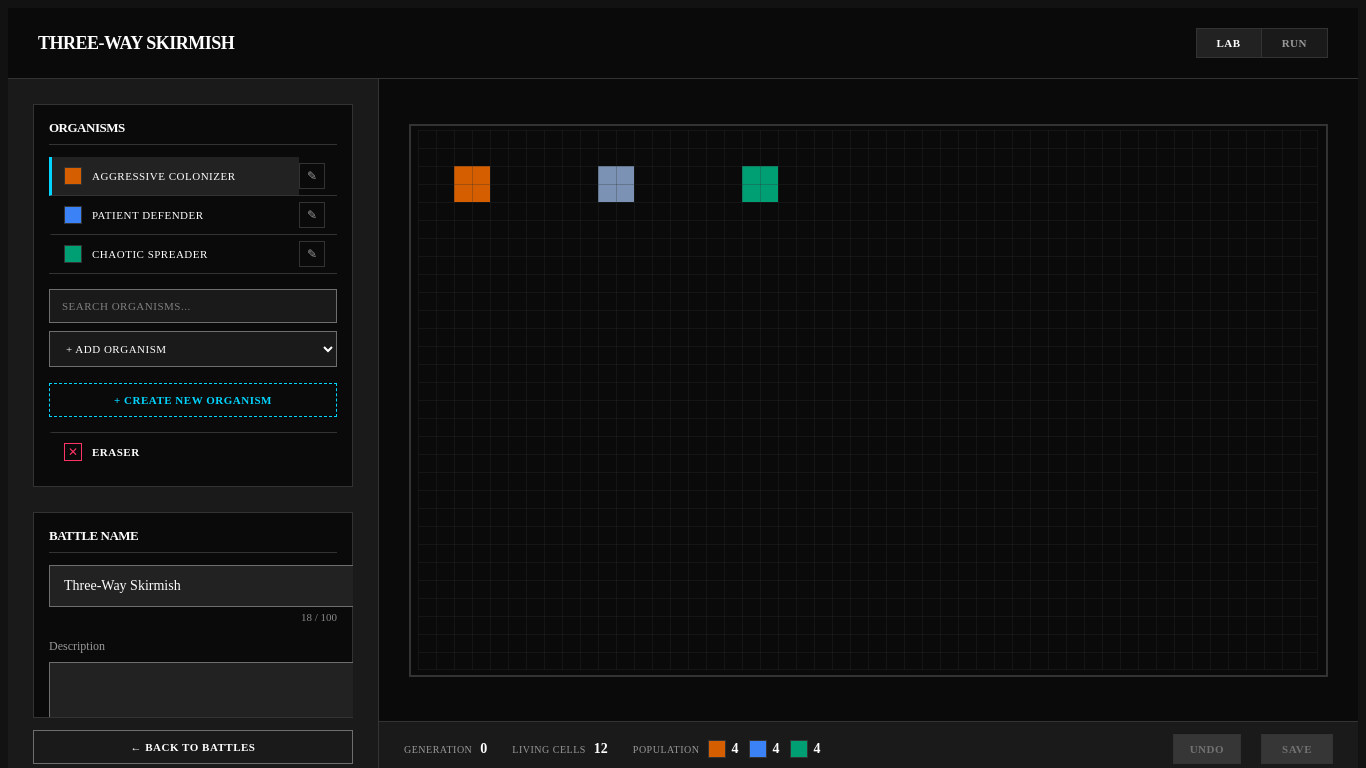
Test: BattlePage — create organism from battle (Story 4.25) › a create after a pencil press opens on fresh snapshots — "Used in 0 Battles", not the pencil's (FD4, AC7)
Expected: the heading "Three-Way Skirmish" is shown, [38, 32, 234, 54]
Click the button named "Edit Aggressive Colonizer": (312, 176) [299, 163, 325, 189]
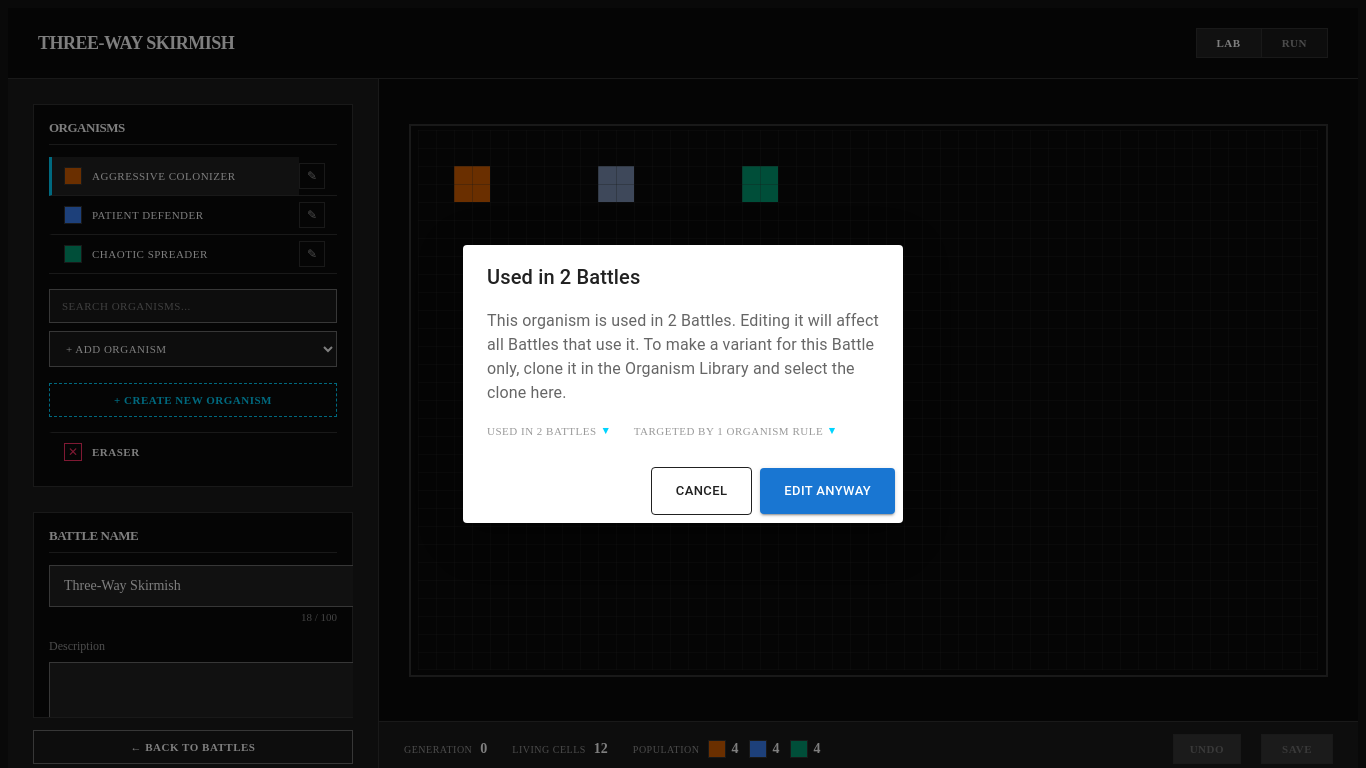
Click the button "Edit Anyway": (828, 491) [760, 468, 895, 514]
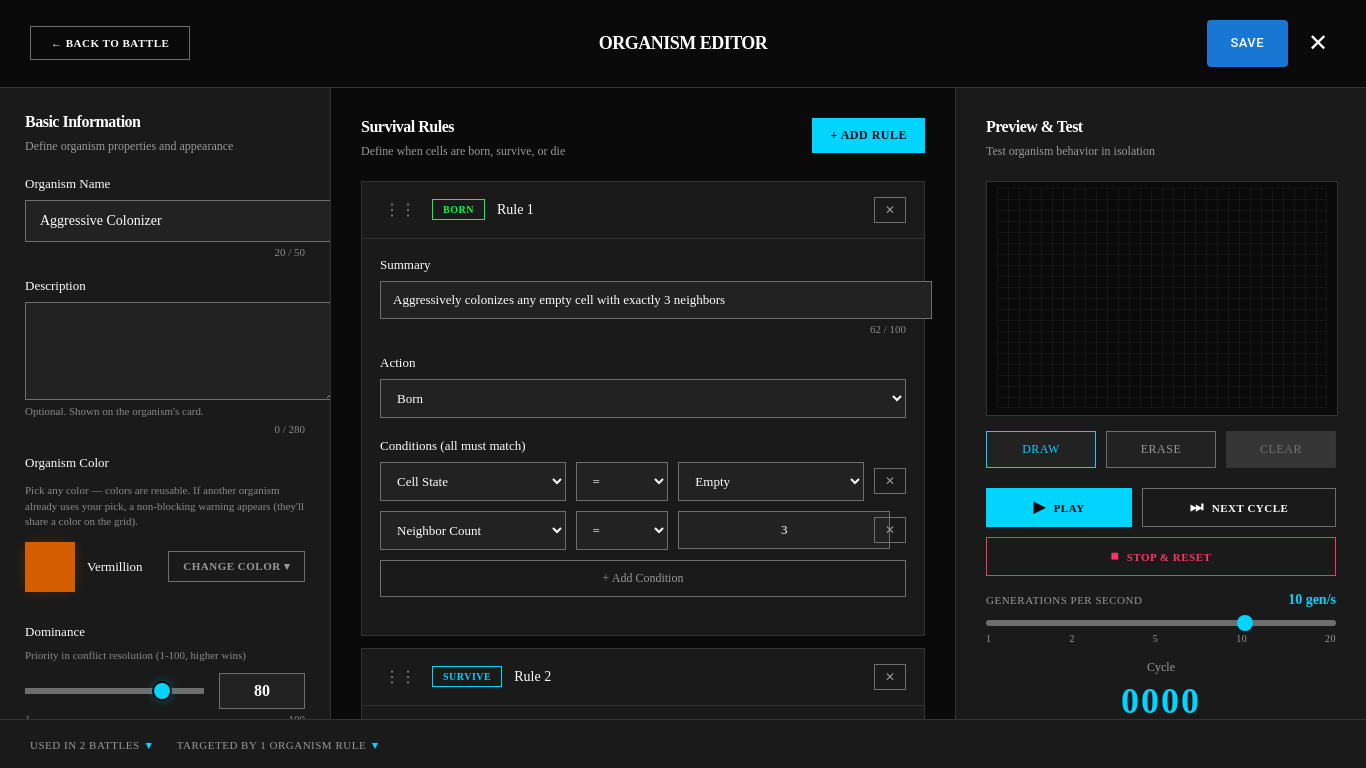
Click the button "← Back to Battle": (110, 43) [30, 26, 190, 60]
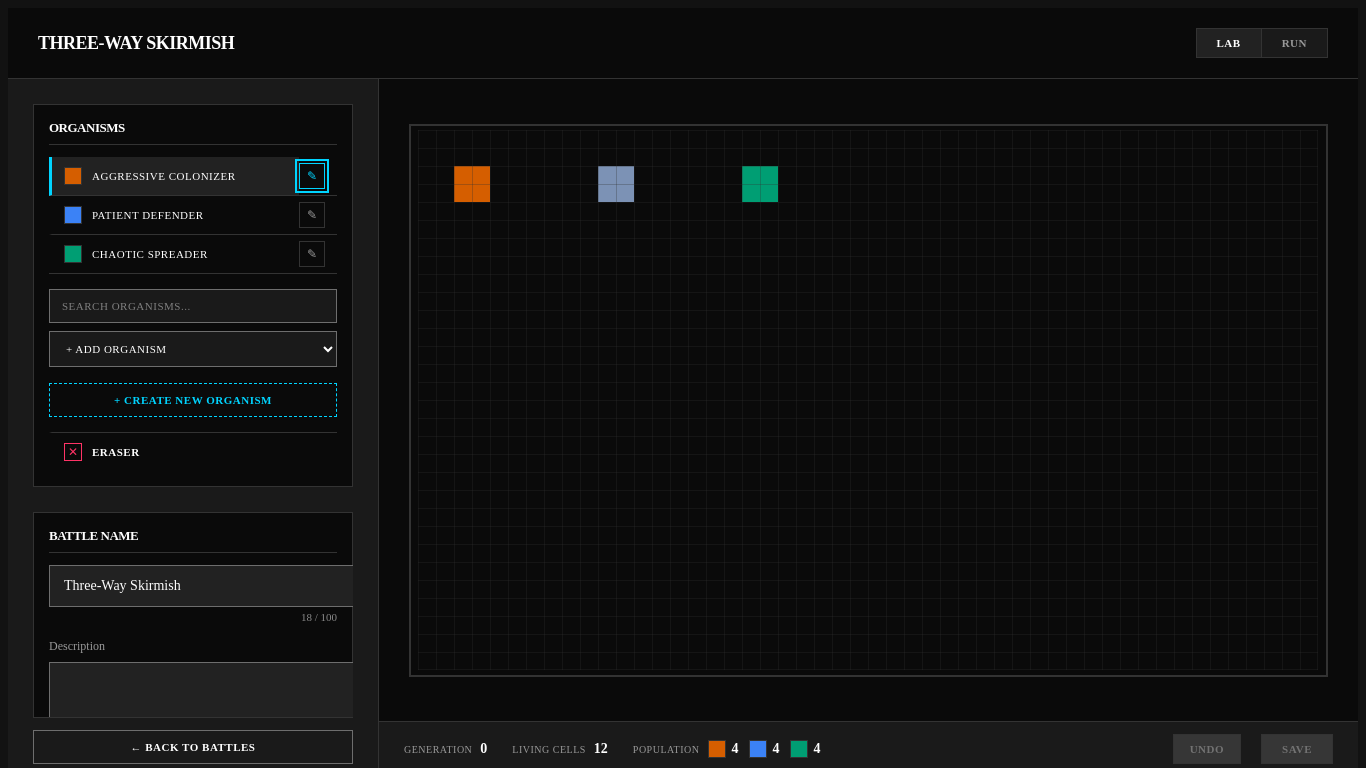
Expected: the dialog is gone
Click the button "+ Create New Organism": (193, 400) [49, 383, 337, 417]
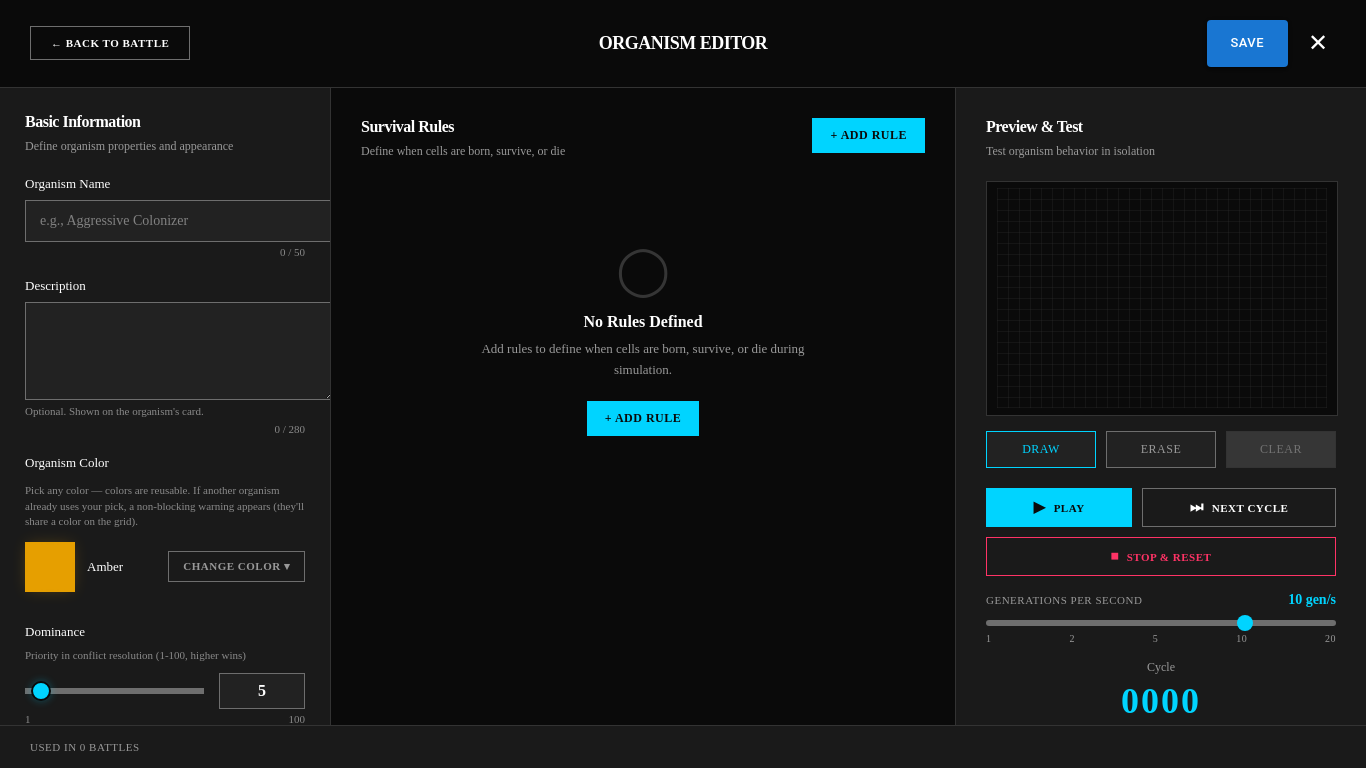
Expected: the button "Used in 2 Battles ▾" is not shown
Expected: the text "Used in 0 Battles" is shown, [30, 741, 140, 753]
